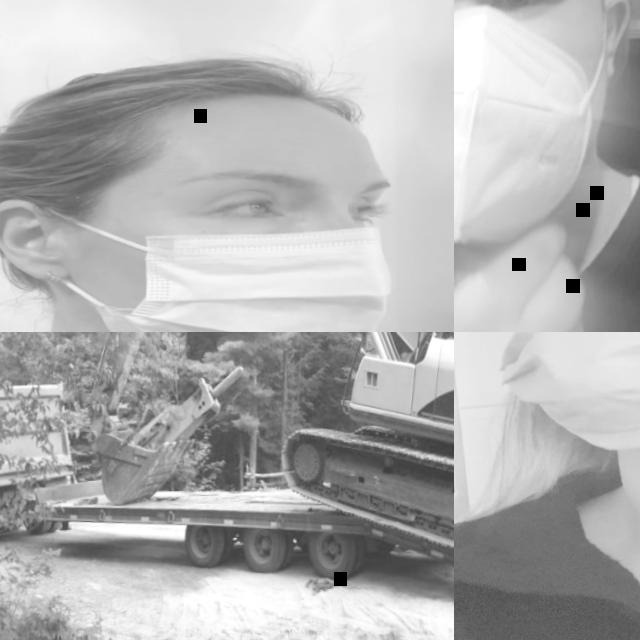Mask: (43, 191, 396, 332), (454, 3, 617, 260), (498, 332, 640, 460)
NO-Hardhat: (0, 51, 378, 168)
NO-Safety Vest: (454, 463, 640, 640), (454, 188, 640, 332)
Person: (0, 41, 454, 332), (454, 0, 640, 332), (454, 332, 640, 640)
machinery: (75, 332, 454, 626)
vehicle: (0, 361, 377, 586)
